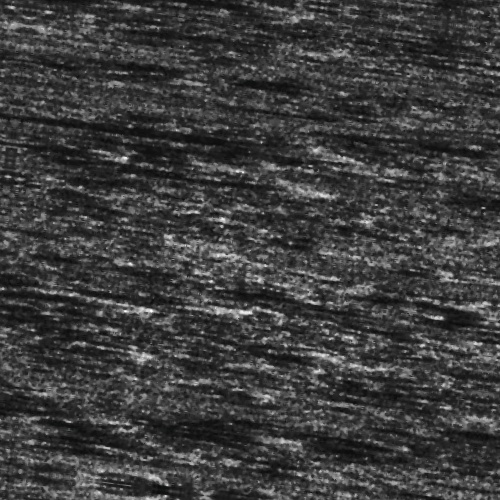object: (148, 300, 293, 317), (0, 306, 146, 319), (287, 137, 392, 150), (70, 429, 153, 442), (248, 174, 311, 191), (0, 412, 93, 423), (260, 427, 333, 438), (434, 115, 500, 126), (205, 2, 268, 13), (64, 14, 127, 25), (81, 317, 154, 326), (254, 41, 327, 48), (313, 491, 366, 498), (0, 50, 24, 59), (0, 317, 29, 322)
shadow: (0, 174, 280, 191), (0, 300, 220, 317), (69, 137, 339, 150), (280, 115, 496, 126), (48, 2, 236, 13), (0, 429, 111, 442), (169, 427, 296, 438), (0, 14, 95, 25), (6, 317, 118, 326), (146, 41, 290, 48), (225, 491, 340, 498), (0, 306, 53, 319), (0, 412, 36, 423)
